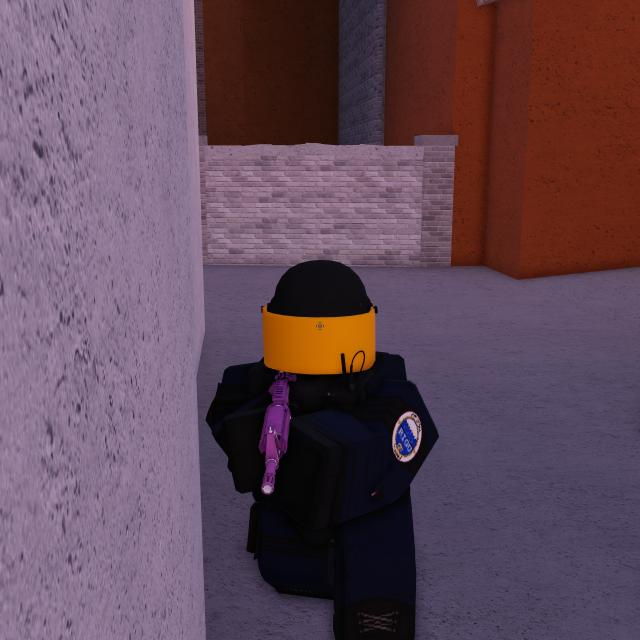Head: (264, 262, 376, 378)
Player: (207, 262, 433, 630)
